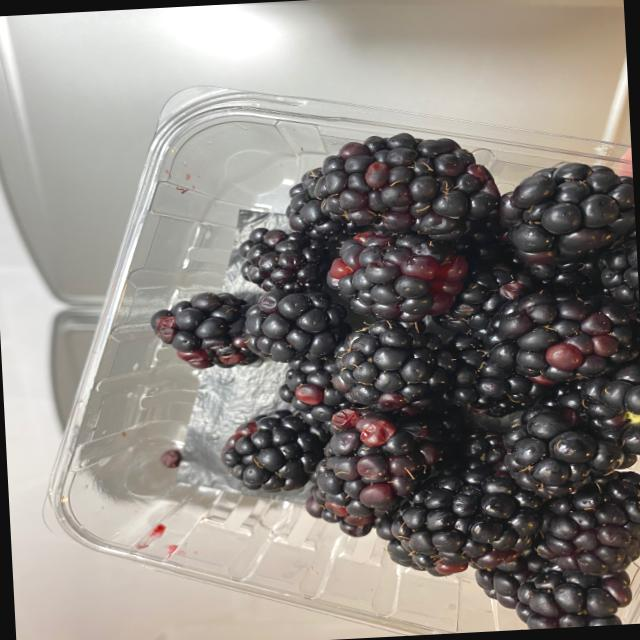blackberries: (132, 117, 640, 640)
